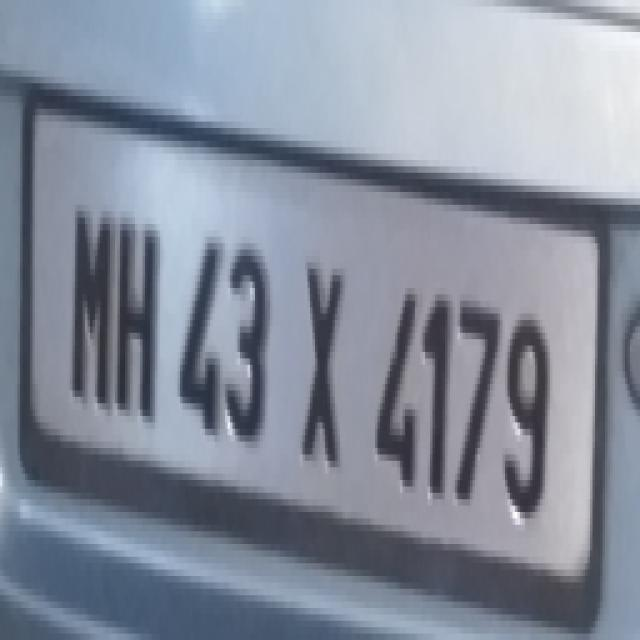1: (424, 279, 451, 511)
3: (224, 245, 272, 446)
4: (371, 279, 420, 478), (176, 233, 221, 433)
7: (456, 280, 504, 518)
9: (509, 307, 559, 545)
H: (118, 209, 158, 428)
M: (62, 189, 113, 427)
X: (294, 237, 354, 500)
